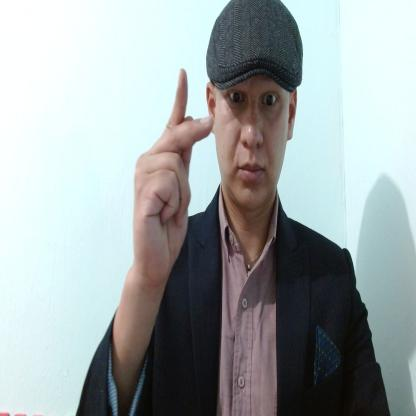P: (132, 65, 214, 276)
